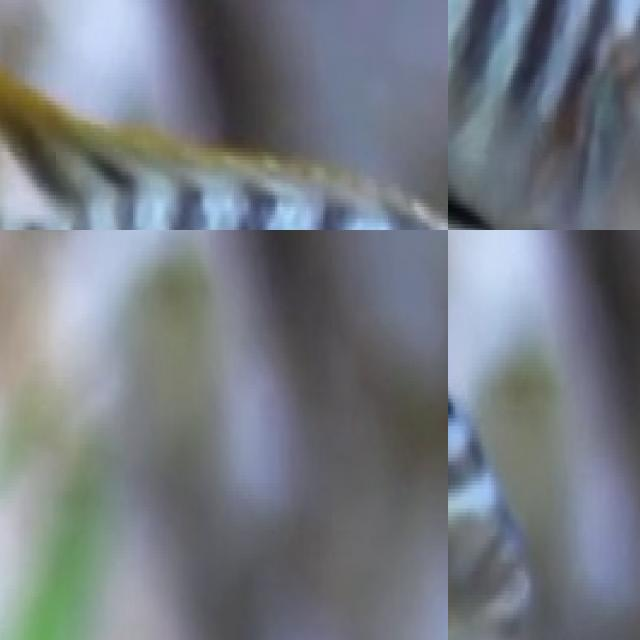fish: (0, 0, 448, 230), (448, 230, 544, 640)
